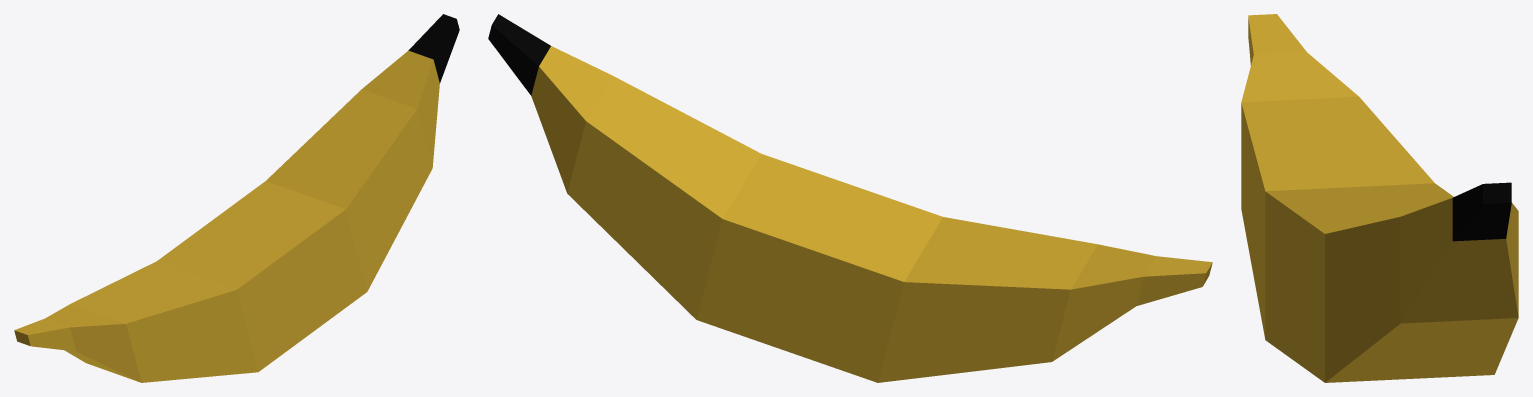
Rendered from banana.fbx.
3 renders of one model, left to right at view 1: azimuth 30°, elevation 25°; view 2: azimuth 150°, elevation 25°; view 3: azimuth 270°, elevation 25°, orthographic. The views are drawn at different scales.
Visible parts, largest first — view 1: banana; view 2: banana; view 3: banana.
Part boxes in pixels (left/top/right/bottom): banana: left=14, top=14, right=459, bottom=382; banana: left=488, top=14, right=1212, bottom=382; banana: left=1241, top=14, right=1518, bottom=382.
Bounding box in the file's own units: 35.52 × 15.96 × 10.96.
1 material, 1 textured.
